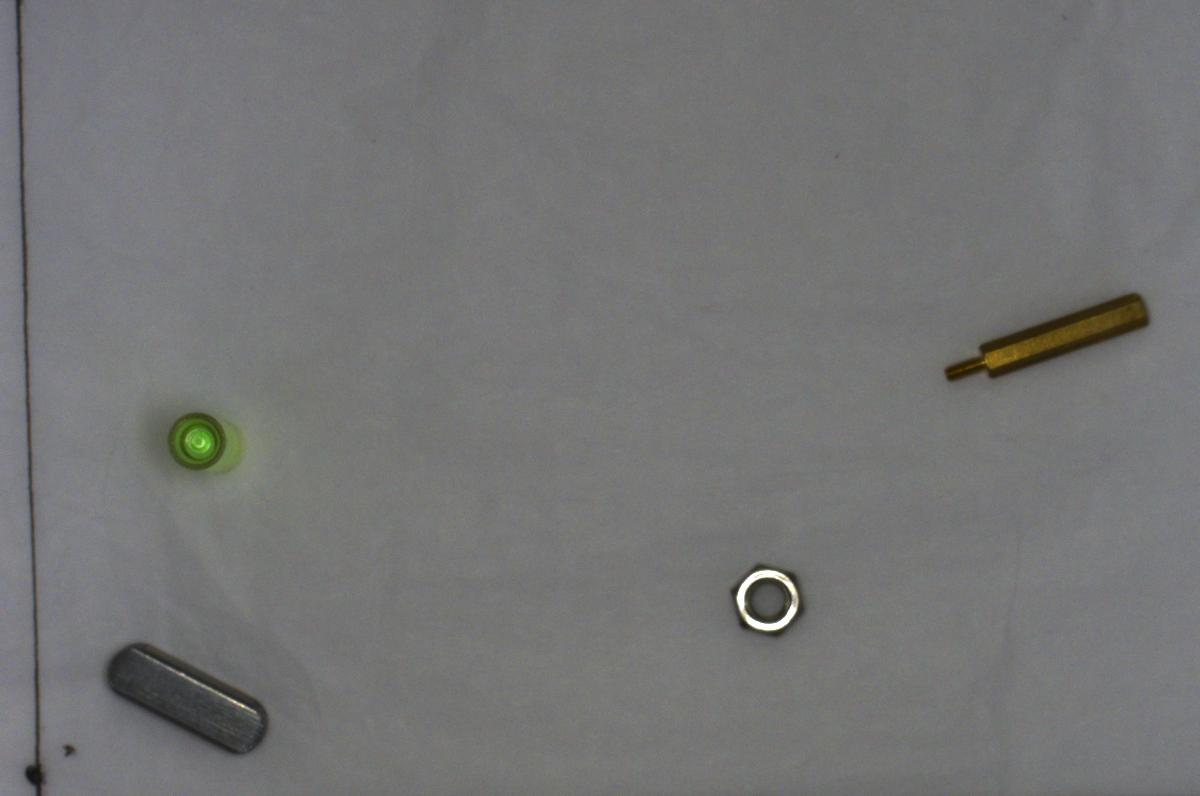Hexagon nut: (724, 553, 806, 642)
Hexagon pillar: (930, 283, 1158, 388)
Horizontal bubble: (148, 400, 255, 485)
Keybar: (94, 628, 277, 766)
